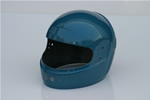helmet: (44, 12, 118, 85)
